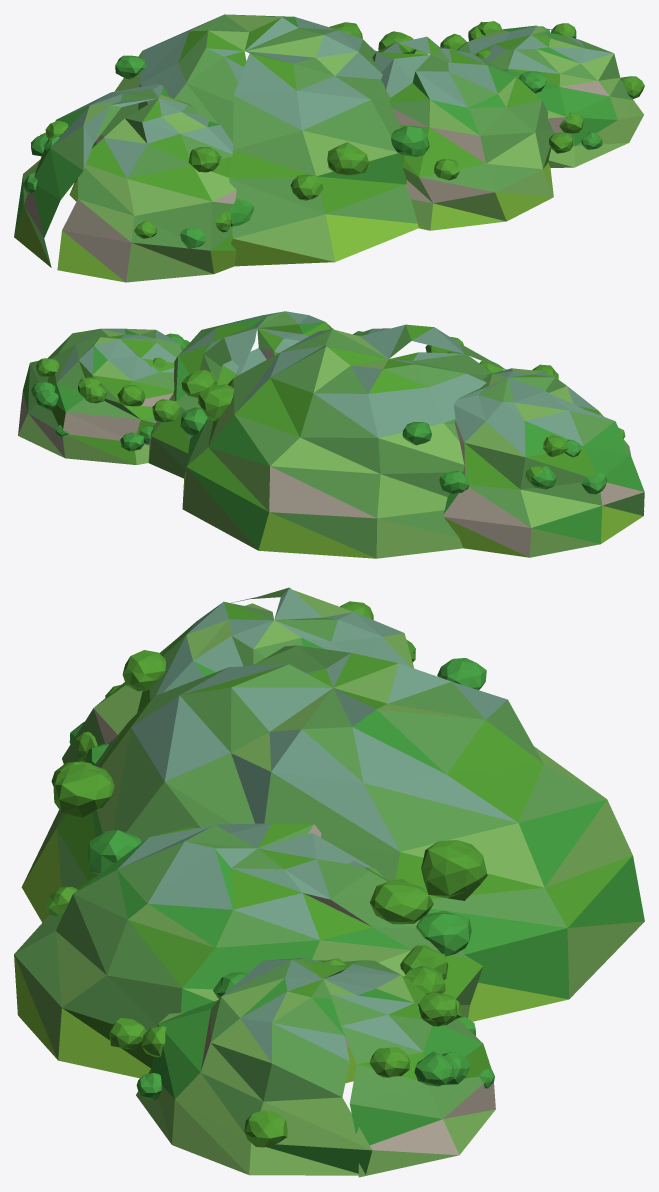
File: cordillera.glb
3 renders of one model, top to bottom at view 1: azimuth 30°, elevation 25°; view 2: azimuth 150°, elevation 25°; view 3: azimuth 270°, elevation 25°, orthographic. The views are drawn at different scales.
Parts seen in each view (by area): view 1: pico_2_montana, pico_2_montana_azul, pico_1_montana_claro, pico_1_montana, pico_3_montana, pico_2_montana_claro, pico_2_hoja_oscura, pico_3_montana_claro, pico_1_montana_azul, pico_4_montana_claro, pico_2_pasto, pico_3_montana_azul (+18 smaller); view 2: pico_2_montana, pico_2_montana_claro, pico_2_montana_azul, pico_1_montana, pico_2_hoja_oscura, pico_1_montana_azul, pico_1_mango_hoja, pico_1_montana_claro, pico_4_montana, pico_1_roca, pico_2_mango_hoja, pico_4_hoja_oscura (+17 smaller); view 3: pico_2_montana, pico_2_montana_azul, pico_3_montana, pico_4_montana_claro, pico_4_montana, pico_2_mango_hoja, pico_2_montana_claro, pico_2_hoja_oscura, pico_3_montana_azul, pico_4_mango_hoja, pico_3, pico_3_hoja_oscura (+14 smaller).
Part boxes in pixels (left/top/right/bottom): pico_2_montana: left=71, top=14, right=417, bottom=238; pico_2_montana_azul: left=140, top=16, right=382, bottom=130; pico_1_montana_claro: left=23, top=94, right=236, bottom=282; pico_1_montana: left=24, top=89, right=232, bottom=266; pico_3_montana: left=390, top=49, right=554, bottom=192; pico_2_montana_claro: left=114, top=14, right=397, bottom=261; pico_2_hoja_oscura: left=92, top=17, right=406, bottom=213; pico_3_montana_claro: left=403, top=77, right=553, bottom=230; pico_1_montana_azul: left=51, top=84, right=232, bottom=178; pico_4_montana_claro: left=469, top=25, right=643, bottom=167; pico_2_pasto: left=69, top=178, right=418, bottom=266; pico_3_montana_azul: left=374, top=36, right=497, bottom=107; pico_2_montana: left=186, top=325, right=505, bottom=558; pico_2_montana_claro: left=182, top=329, right=464, bottom=558; pico_2_montana_azul: left=235, top=324, right=486, bottom=437; pico_1_montana: left=465, top=374, right=644, bottom=527; pico_2_hoja_oscura: left=187, top=324, right=433, bottom=511; pico_1_montana_azul: left=453, top=368, right=613, bottom=456; pico_1_mango_hoja: left=443, top=368, right=644, bottom=543; pico_1_montana_claro: left=464, top=368, right=628, bottom=557; pico_4_montana: left=28, top=328, right=183, bottom=429; pico_1_roca: left=443, top=420, right=643, bottom=557; pico_2_mango_hoja: left=186, top=345, right=325, bottom=550; pico_4_hoja_oscura: left=47, top=334, right=174, bottom=464; pico_2_montana: left=56, top=645, right=606, bottom=927; pico_2_montana_azul: left=131, top=653, right=517, bottom=851; pico_3_montana: left=14, top=824, right=482, bottom=1030; pico_4_montana_claro: left=136, top=975, right=495, bottom=1177; pico_4_montana: left=201, top=958, right=483, bottom=1134; pico_2_mango_hoja: left=92, top=709, right=644, bottom=999; pico_2_montana_claro: left=22, top=663, right=644, bottom=998; pico_2_hoja_oscura: left=56, top=653, right=632, bottom=927; pico_3_montana_azul: left=118, top=823, right=372, bottom=939; pico_4_mango_hoja: left=151, top=978, right=482, bottom=1174; pico_3: left=45, top=830, right=471, bottom=1049; pico_3_hoja_oscura: left=57, top=823, right=482, bottom=1068.
Size of the model in its own units: 79.63 by 18.11 by 46.14.
